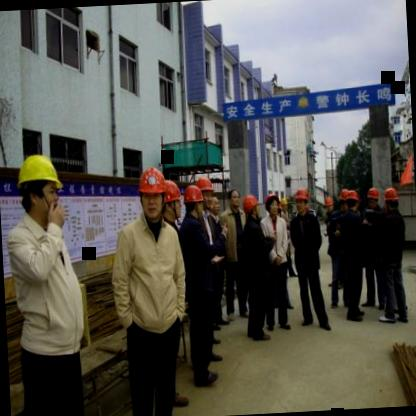head: (227, 185, 241, 209), (207, 194, 220, 216)
helmet: (15, 152, 64, 224), (134, 165, 167, 220), (160, 176, 182, 219), (196, 172, 215, 208), (183, 184, 203, 218), (292, 184, 312, 214), (381, 186, 401, 212), (241, 193, 260, 220), (264, 190, 280, 218), (346, 186, 362, 212), (364, 186, 380, 210), (338, 187, 348, 210), (324, 195, 334, 213)
